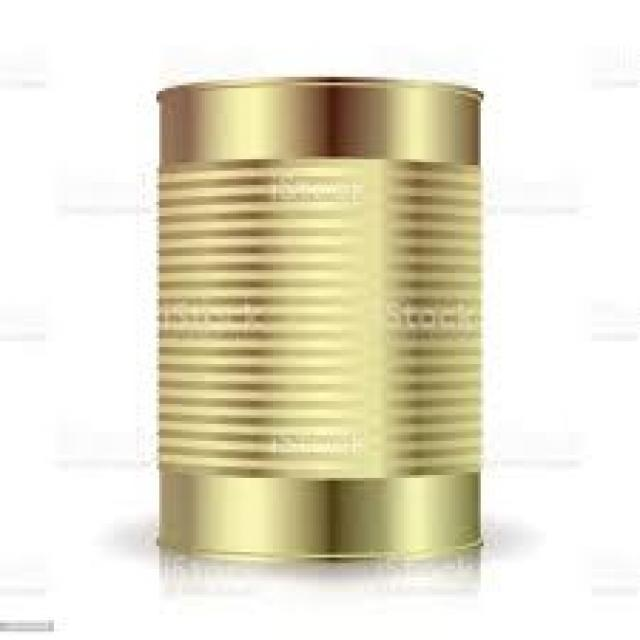recyclable: (153, 80, 480, 554)
